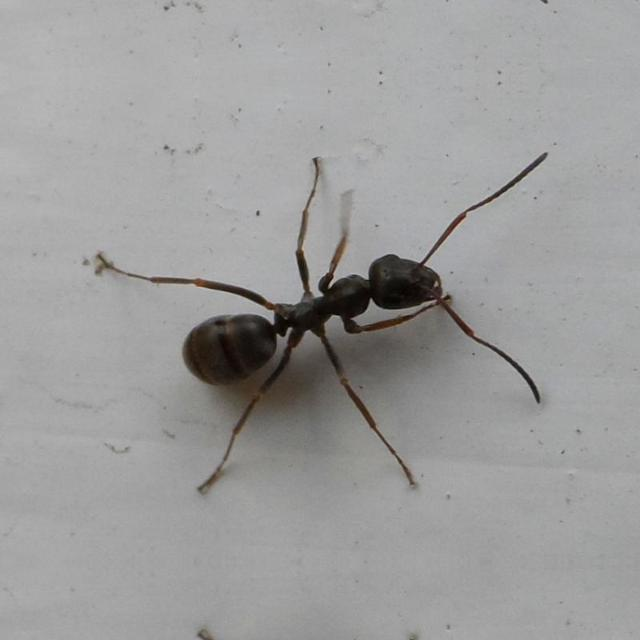Formica: (154, 216, 472, 410)
